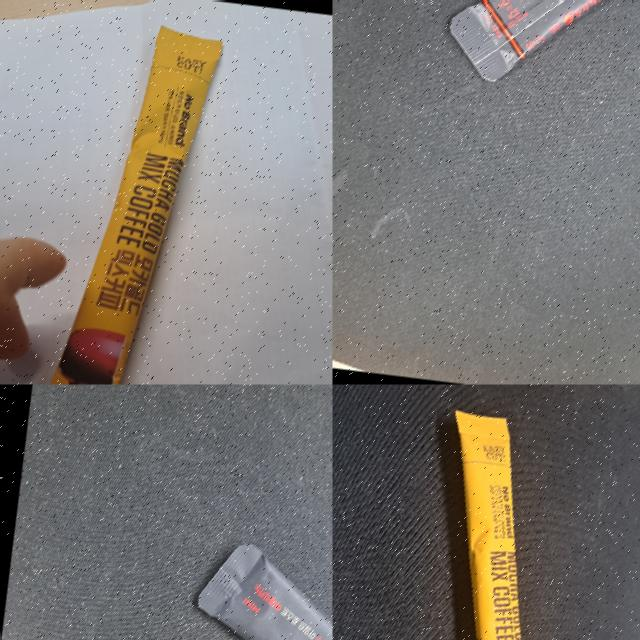KANU: (431, 0, 640, 121), (173, 523, 332, 640)
mix_coffee: (26, 9, 231, 384), (399, 400, 584, 640)
